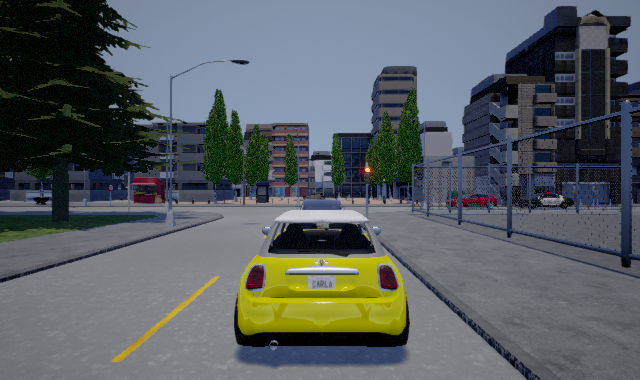traffic_light: (365, 164, 370, 187)
vehicle: (234, 207, 410, 350), (511, 192, 574, 209), (447, 190, 498, 209)
